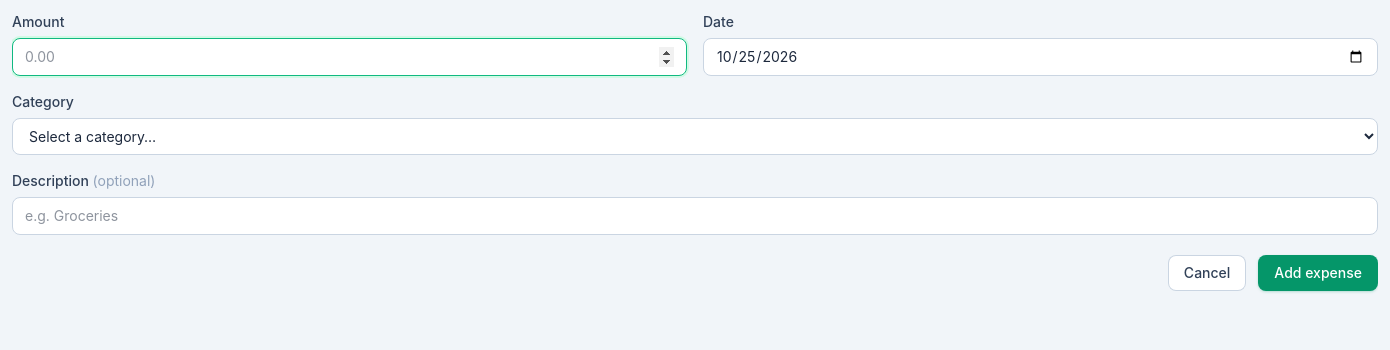
Test case: TransactionForm › rejects zero and negative amounts
Type "-1" into the number field labelled "Amount" at (350, 57), box [12,38,687,76]
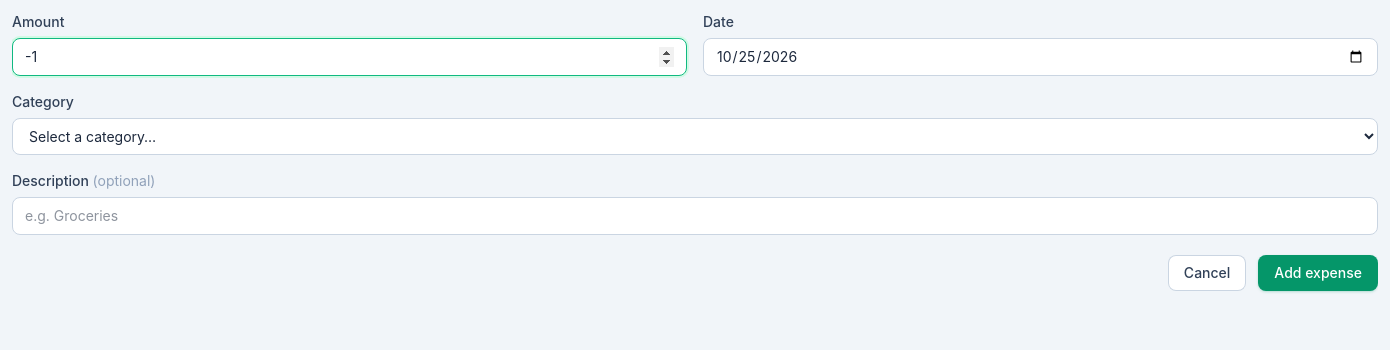
Submit the form labelled "Amount"
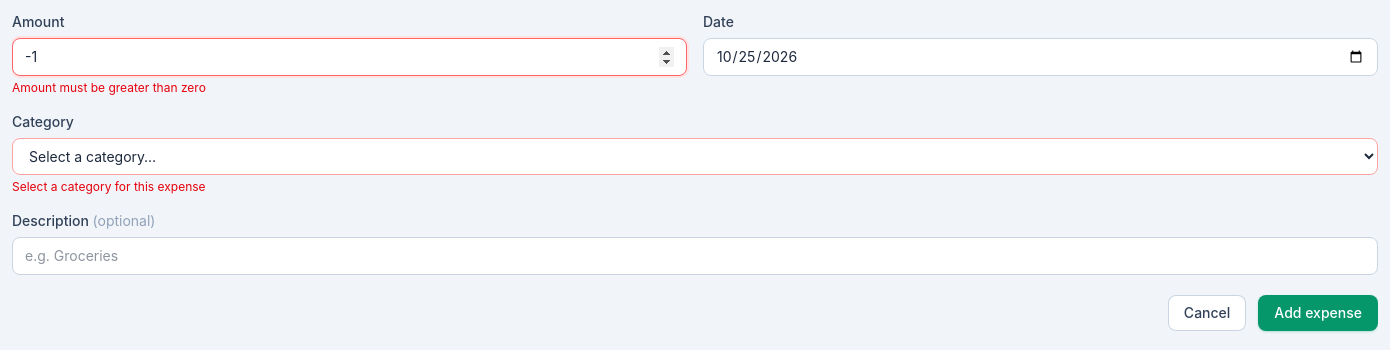
Result: the text "Amount must be greater than zero" is shown at [12,80,206,95]
